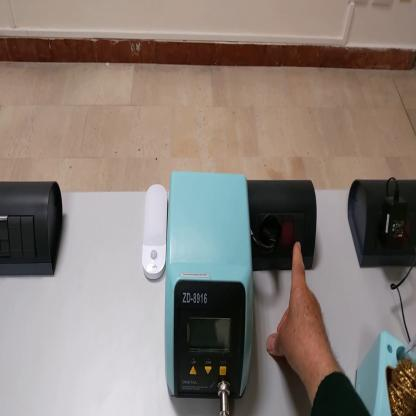hand: (267, 240, 330, 379)
socket: (247, 181, 317, 275), (347, 175, 416, 266)
welder base: (354, 313, 416, 416)
welder station: (165, 165, 256, 399)
